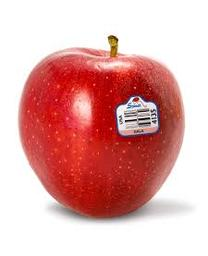apple: (16, 35, 185, 218)
